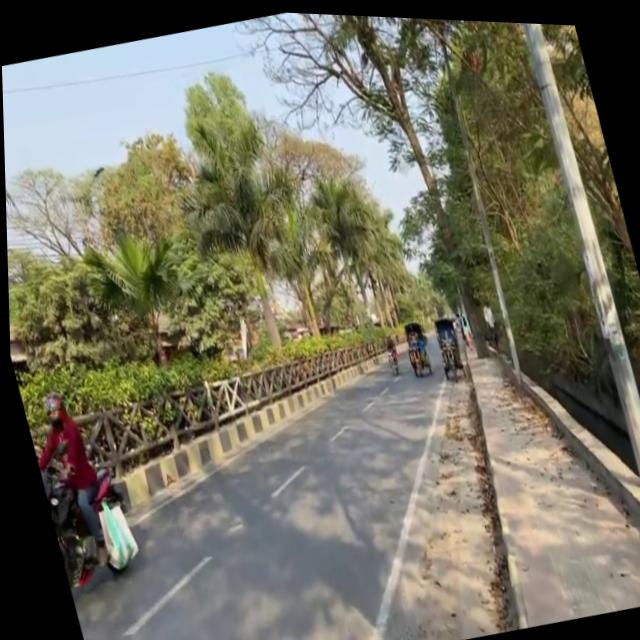Construction-barrier: (423, 342, 534, 629), (542, 356, 639, 492)
Dog: (86, 492, 140, 573)
Fallen-tree: (30, 428, 143, 594), (402, 330, 432, 375), (477, 313, 501, 349), (382, 342, 399, 372)
Garbage-bin: (18, 384, 112, 556)
Light-pole: (506, 18, 640, 496)
Pothole: (439, 288, 640, 628)
